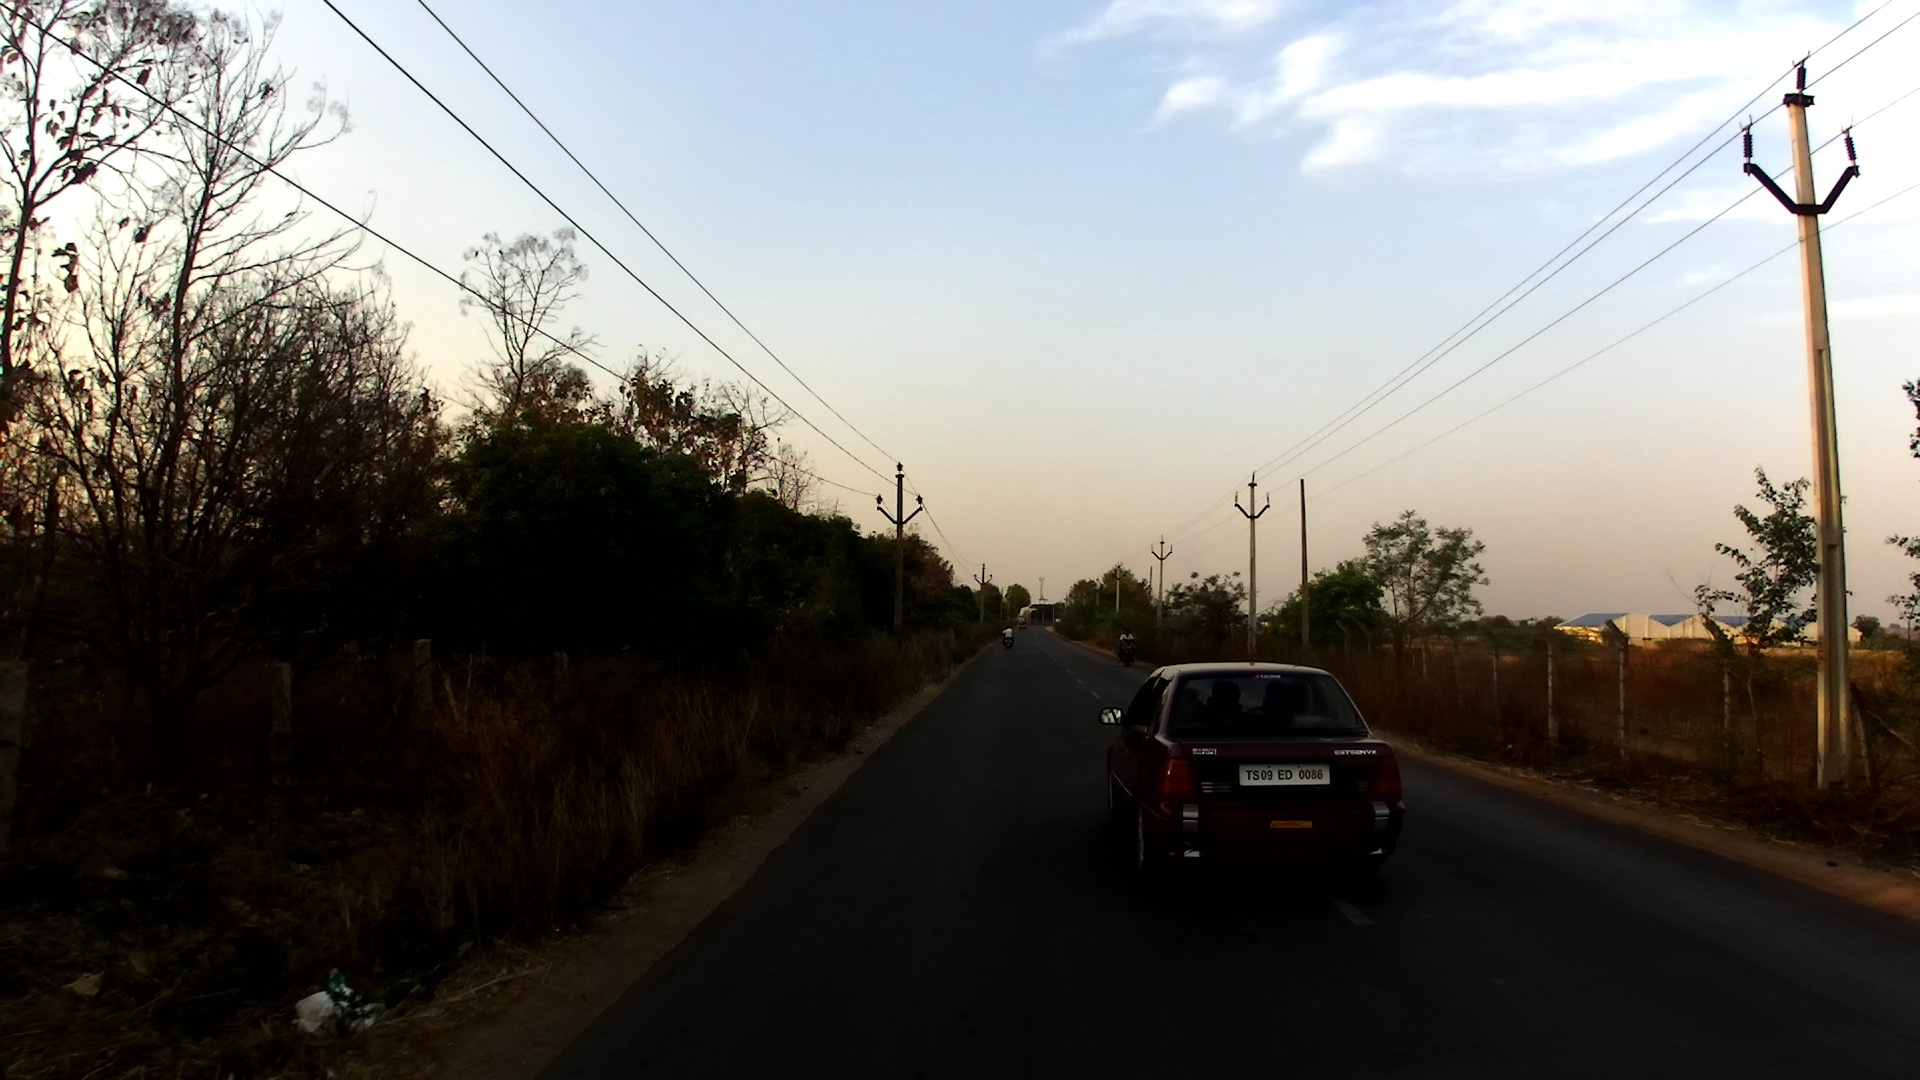car: (1097, 661, 1407, 898), (1018, 621, 1026, 631)
motorcycle: (1115, 640, 1139, 669), (1002, 632, 1013, 650)
rider: (1116, 629, 1135, 663), (999, 626, 1017, 649)
